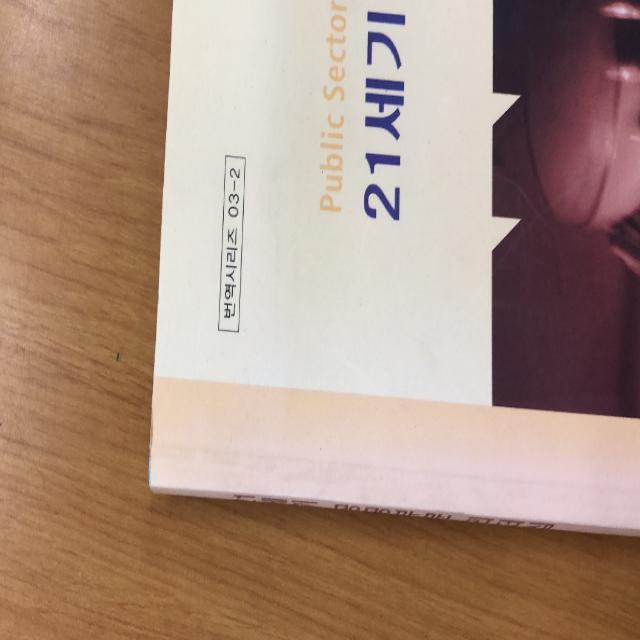Wornout: (143, 391, 170, 467)
